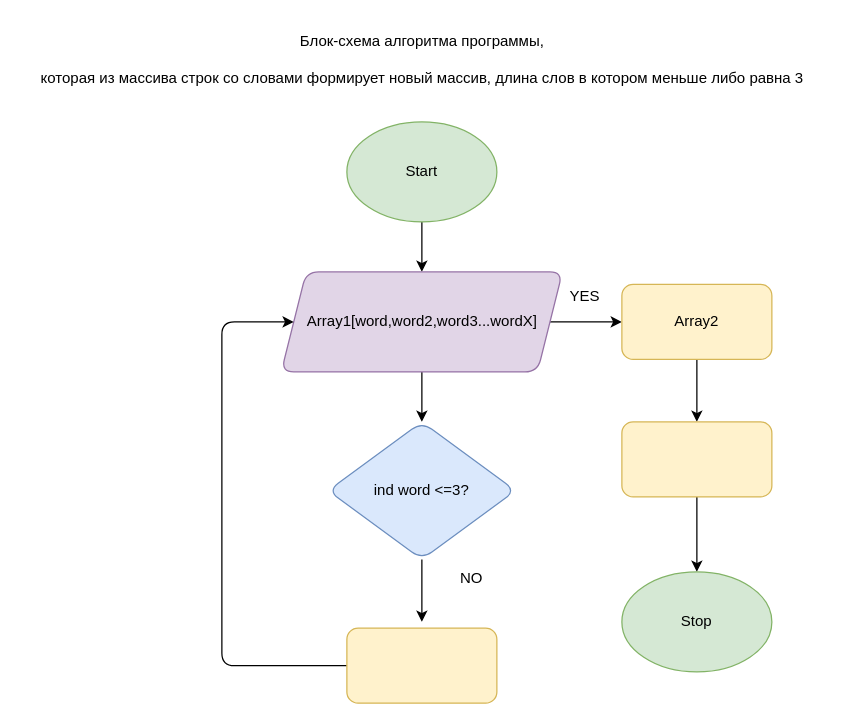
This 843x725 diagram has some shape labels left out. Each missing label, with the centre of its shape:
"Print Array2" belongs at point (696, 459).
"word ++" belongs at point (421, 665).
